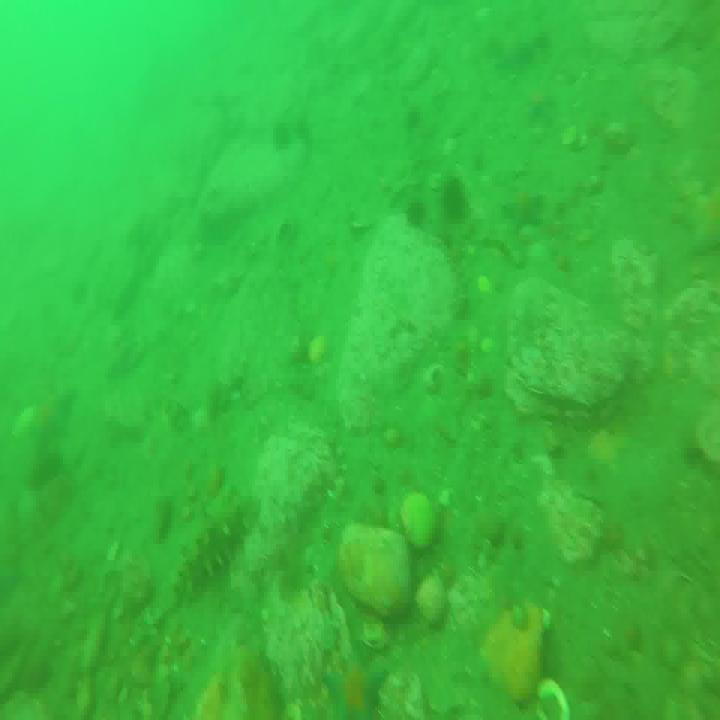echinus: (442, 175, 470, 221)
holothurian: (173, 492, 257, 604)
scallop: (534, 674, 572, 720)
starfish: (327, 648, 390, 720), (523, 82, 557, 125)
